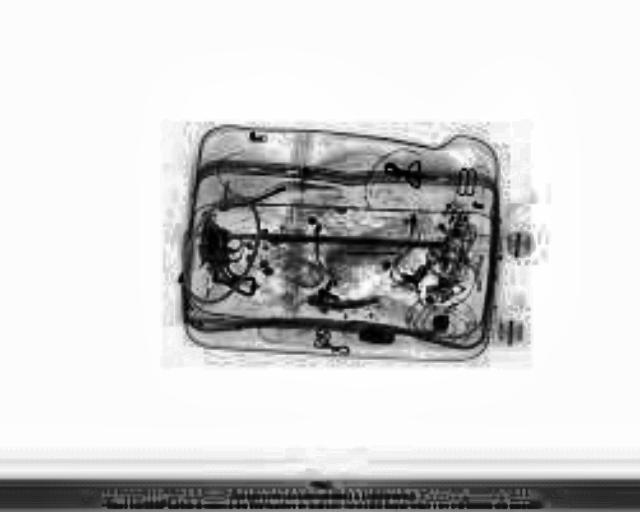Gun: (196, 208, 256, 292)
